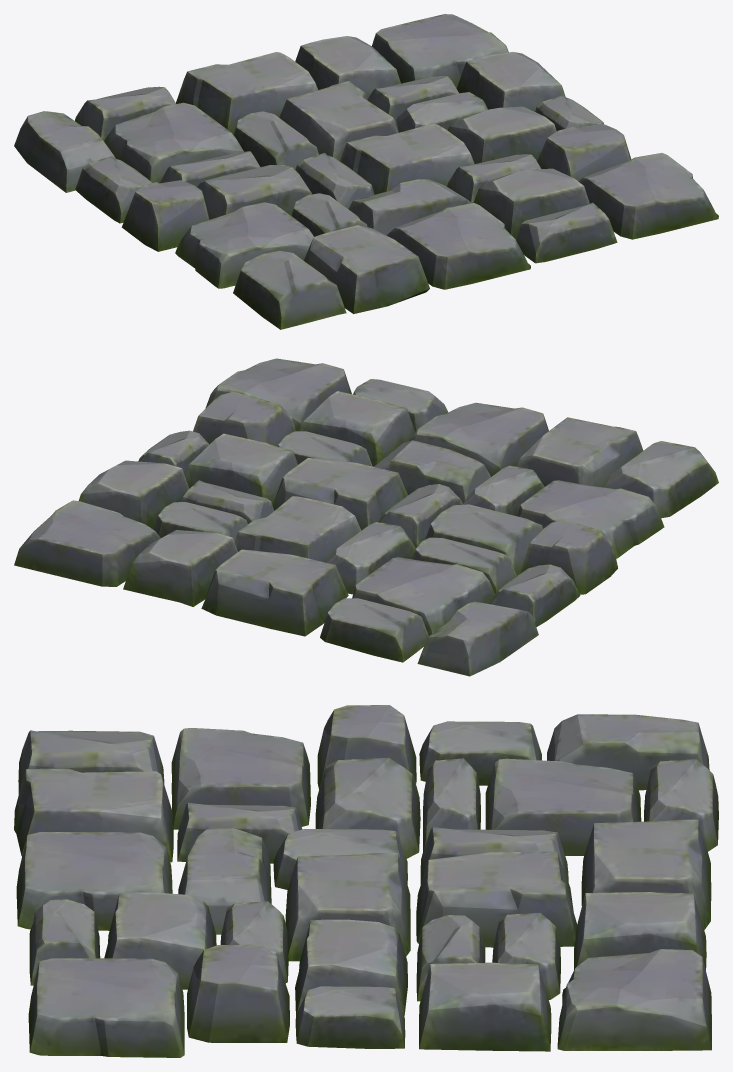
File: path-slab.glb
3 renders of one model, top to bottom at view 1: azimuth 30°, elevation 25°; view 2: azimuth 150°, elevation 25°; view 3: azimuth 270°, elevation 25°, orthographic. The views are drawn at different scales.
Visible parts, largest first — view 1: RockPath_Square_Wide; view 2: RockPath_Square_Wide; view 3: RockPath_Square_Wide.
Boxes of the visible parts, left/top/right/bottom form: RockPath_Square_Wide: left=14, top=14, right=718, bottom=329; RockPath_Square_Wide: left=14, top=358, right=718, bottom=676; RockPath_Square_Wide: left=14, top=705, right=718, bottom=1057.
Bounding box in the file's own units: 2.05 × 0.1763 × 1.99.
Materials: 1 (1 with a texture image).
